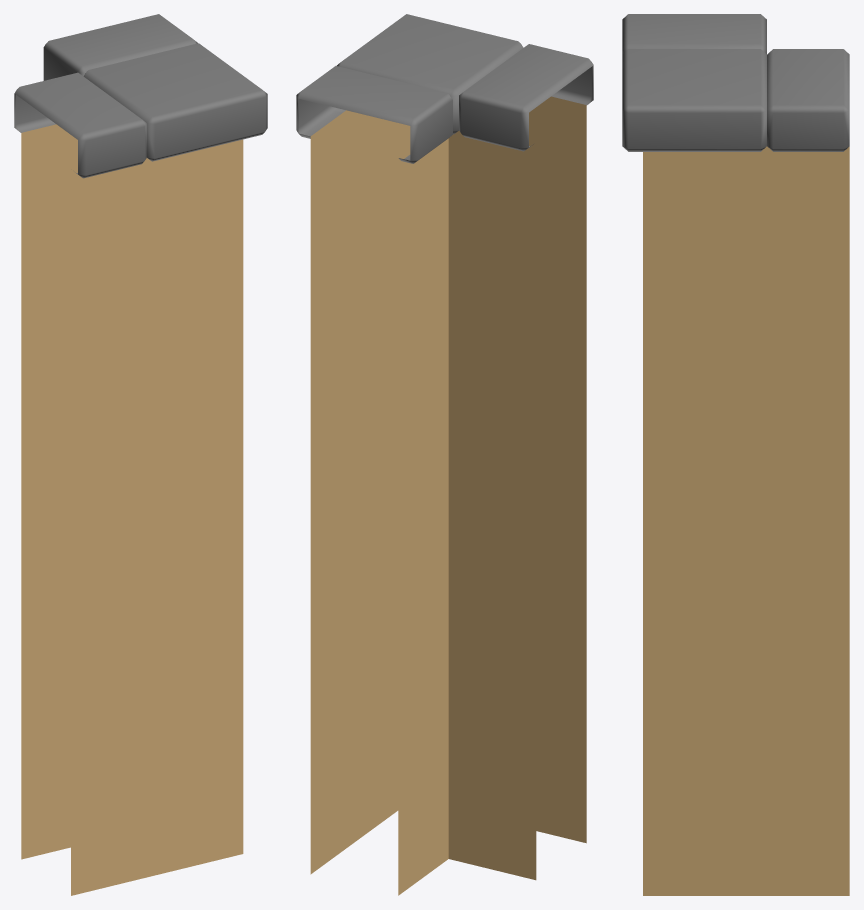
Rendered from SM_WallCorner_8_LOD0.fbx.
The picture shows the model from 3 angles, left to right: view 1: azimuth 30°, elevation 25°; view 2: azimuth 150°, elevation 25°; view 3: azimuth 270°, elevation 25°; orthographic projection. The views are drawn at different scales.
Parts seen in each view (by area): view 1: SM_WallCorner_8_LOD0; view 2: SM_WallCorner_8_LOD0; view 3: SM_WallCorner_8_LOD0.
Part boxes in pixels (x1,y1,x2,y2): SM_WallCorner_8_LOD0: (14,14,267,895); SM_WallCorner_8_LOD0: (296,14,593,895); SM_WallCorner_8_LOD0: (622,14,849,895).
Size of the model in its own units: 2.2 by 8.5 by 2.2.
